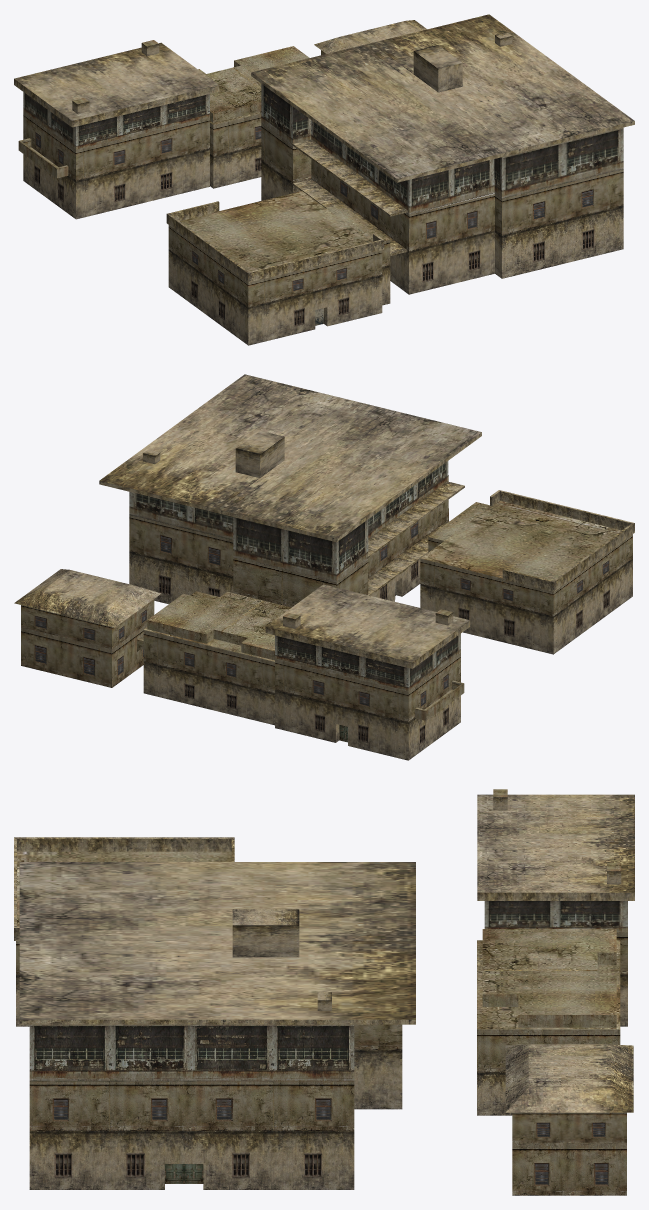
Rendered from MogBlk02.glb.
3 renders of one model, top to bottom at view 1: azimuth 30°, elevation 25°; view 2: azimuth 150°, elevation 25°; view 3: azimuth 270°, elevation 25°, orthographic. The views are drawn at different scales.
Parts seen in each view (by area): view 1: _MogBlk02; view 2: _MogBlk02; view 3: _MogBlk02.
Boxes of the visible parts, x1,y1,x2,y2 form: _MogBlk02: [14, 14, 634, 345]; _MogBlk02: [14, 374, 634, 760]; _MogBlk02: [14, 789, 634, 1195].
Size of the model in its own units: 66.46 by 23.96 by 65.
2 materials, 2 textured.
